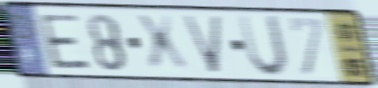7: (287, 15, 326, 79)
8: (86, 11, 129, 73)
E: (37, 12, 94, 72)
U: (235, 12, 292, 81)
V: (179, 13, 226, 76)
X: (132, 13, 193, 75)
